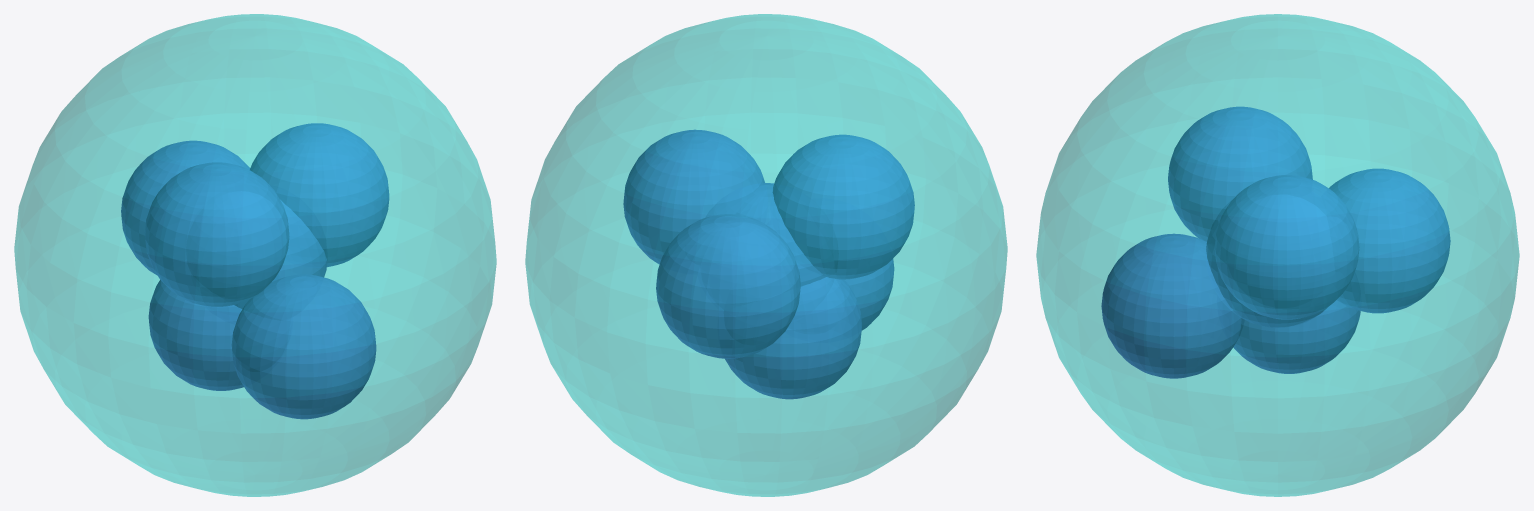
The model's file is water_jade.fbx.
3 renders of one model, left to right at view 1: azimuth 30°, elevation 25°; view 2: azimuth 150°, elevation 25°; view 3: azimuth 270°, elevation 25°, orthographic.
Visible parts, largest first — view 1: 球, 球.002, 球.006, 球.003, 球.004, 球.005, 球.001; view 2: 球, 球.005, 球.002, 球.003, 球.004, 球.001, 球.006; view 3: 球, 球.003, 球.006, 球.005, 球.002, 球.004, 球.001.
Boxes of the visible parts, left/top/right/bottom form: 球: left=14, top=14, right=496, bottom=496; 球.002: left=144, top=162, right=289, bottom=306; 球.006: left=231, top=274, right=376, bottom=419; 球.003: left=250, top=123, right=389, bottom=266; 球.004: left=148, top=280, right=243, bottom=390; 球.005: left=121, top=140, right=250, bottom=275; 球.001: left=234, top=199, right=327, bottom=308; 球: left=525, top=14, right=1007, bottom=496; 球.005: left=656, top=214, right=800, bottom=358; 球.002: left=772, top=134, right=914, bottom=279; 球.003: left=623, top=129, right=764, bottom=264; 球.004: left=725, top=277, right=861, bottom=399; 球.001: left=735, top=183, right=826, bottom=286; 球.006: left=845, top=258, right=894, bottom=330; 球: left=1036, top=14, right=1519, bottom=496; 球.003: left=1214, top=175, right=1359, bottom=319; 球.006: left=1101, top=233, right=1241, bottom=378; 球.005: left=1329, top=168, right=1450, bottom=313; 球.002: left=1168, top=106, right=1312, bottom=241; 球.004: left=1233, top=300, right=1360, bottom=373; 球.001: left=1206, top=217, right=1328, bottom=327.
Size of the model in its own units: 200 by 200 by 200.
